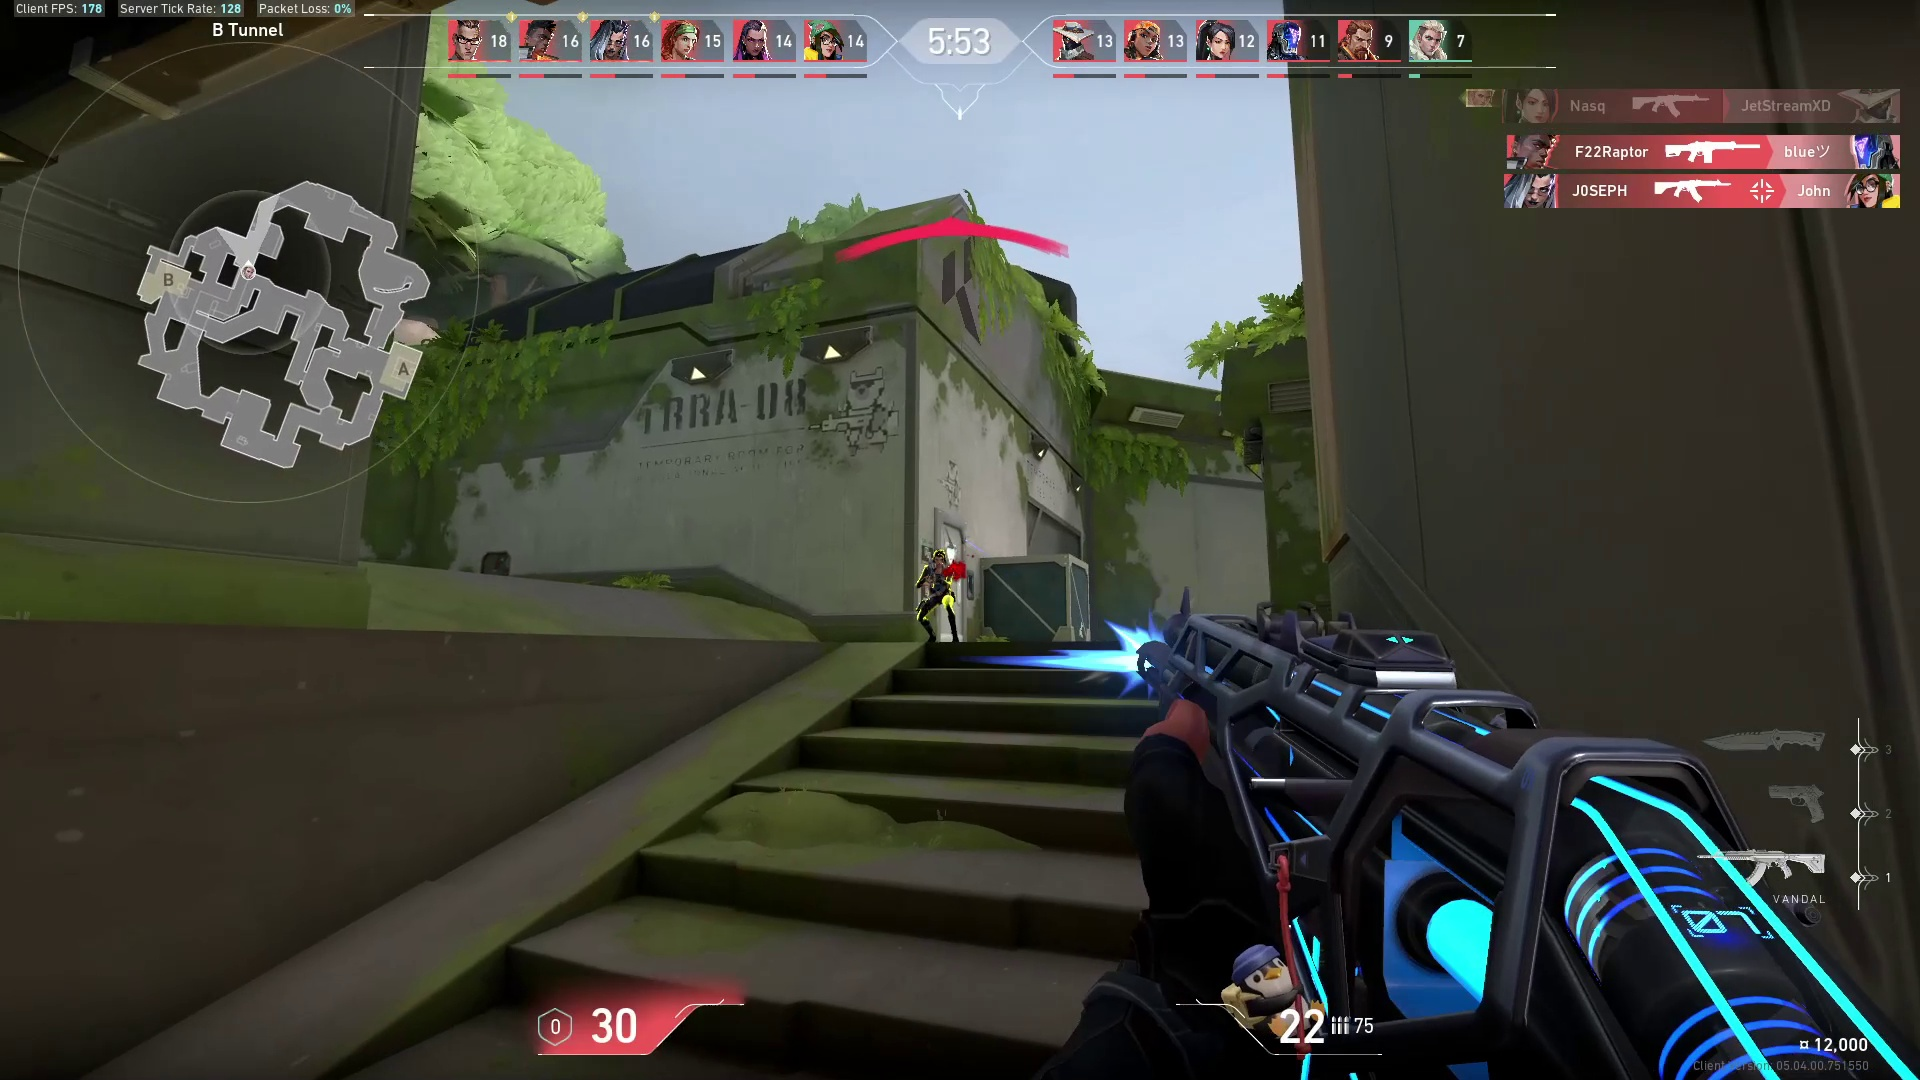enemy_body: (913, 566, 972, 645)
enemy_head: (927, 545, 953, 572)
